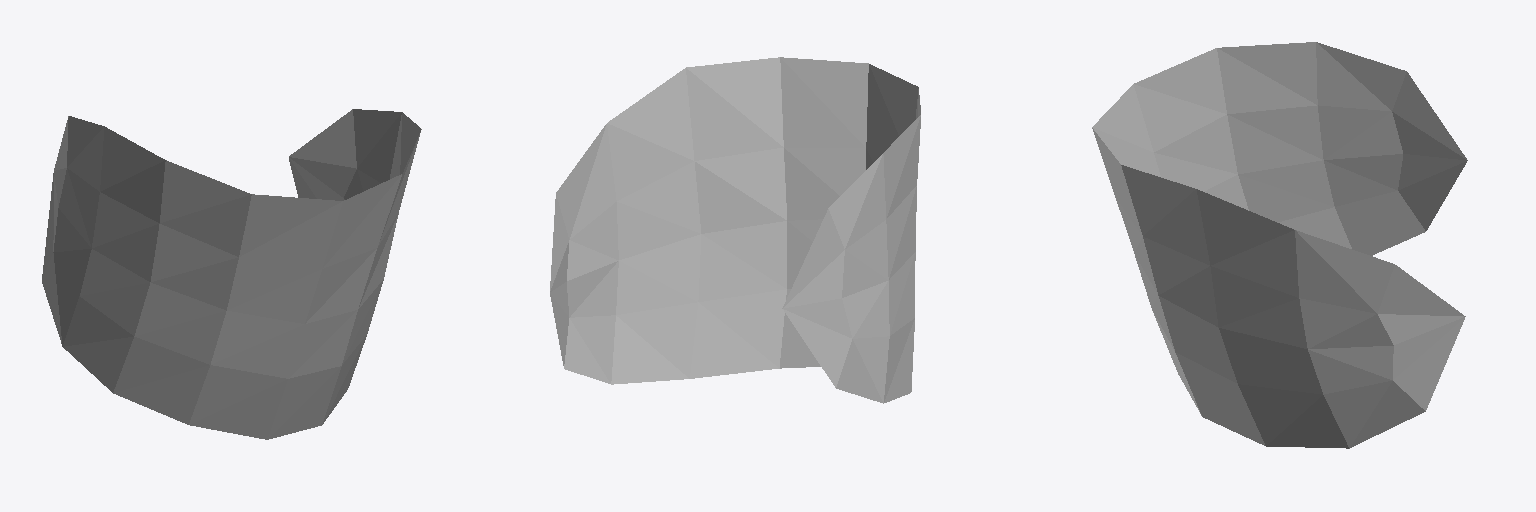
The model's file is genou_droit.obj.
3 renders of one model, left to right at view 1: azimuth 30°, elevation 25°; view 2: azimuth 150°, elevation 25°; view 3: azimuth 270°, elevation 25°, orthographic.
Parts seen in each view (by area): view 1: Soi_SimpleArmor.003_Plane.007; view 2: Soi_SimpleArmor.003_Plane.007; view 3: Soi_SimpleArmor.003_Plane.007.
Boxes of the visible parts, x1,y1,x2,y2 form: Soi_SimpleArmor.003_Plane.007: [42, 109, 421, 439]; Soi_SimpleArmor.003_Plane.007: [550, 57, 920, 403]; Soi_SimpleArmor.003_Plane.007: [1092, 42, 1467, 448].
Bounding box in the file's own units: 0.1304 × 0.1201 × 0.1374.